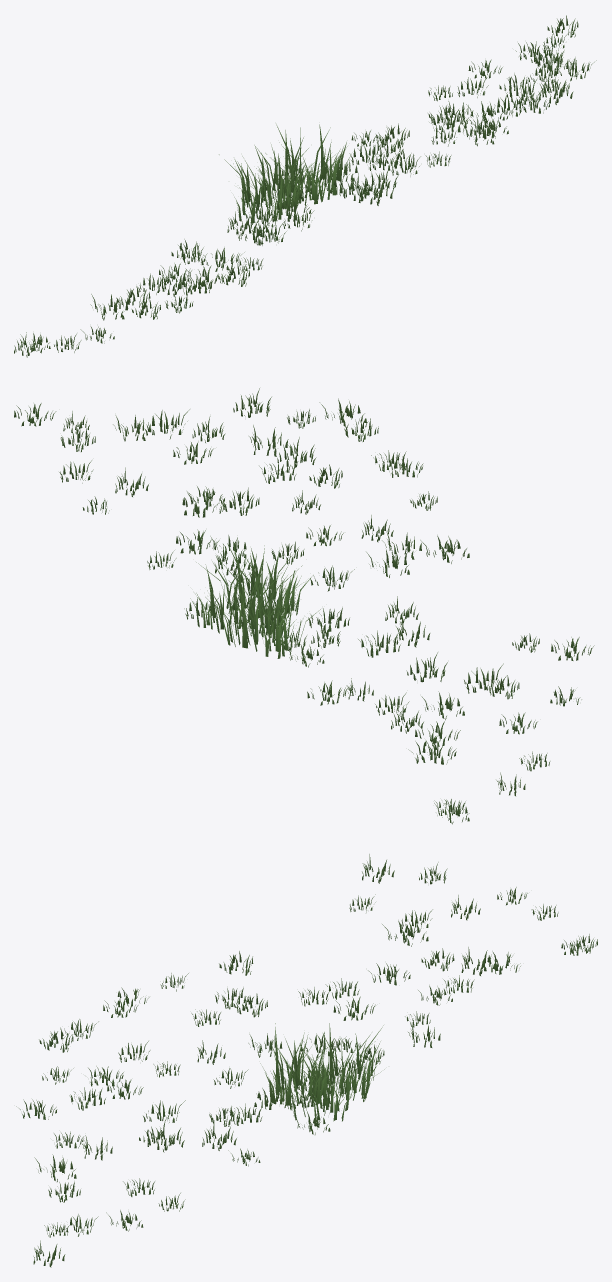
File: P2N_shore_grass_-1_-2.glb
3 views of the same model, one above another, from view 1: azimuth 90°, elevation 25°; view 2: azimuth 150°, elevation 25°; view 3: azimuth 270°, elevation 25° (orthographic). The views are drawn at different scales.
Parts seen in each view (by area): view 1: P2N_shore_grass_-1_-2; view 2: P2N_shore_grass_-1_-2; view 3: P2N_shore_grass_-1_-2.
Part boxes in pixels (bbox=[...]): P2N_shore_grass_-1_-2: bbox=[14, 15, 596, 357]; P2N_shore_grass_-1_-2: bbox=[14, 388, 594, 824]; P2N_shore_grass_-1_-2: bbox=[16, 854, 597, 1267].
Bounding box in the file's own units: 21.08 × 2.71 × 14.98.
